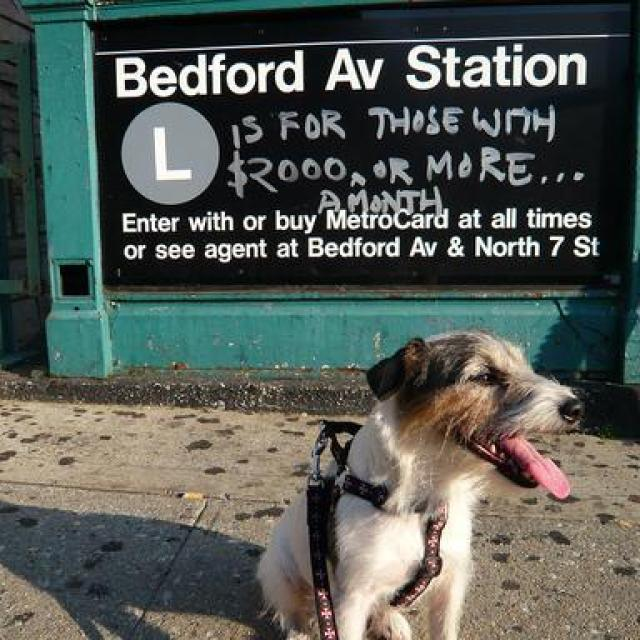adult_dog: (250, 321, 589, 640)
